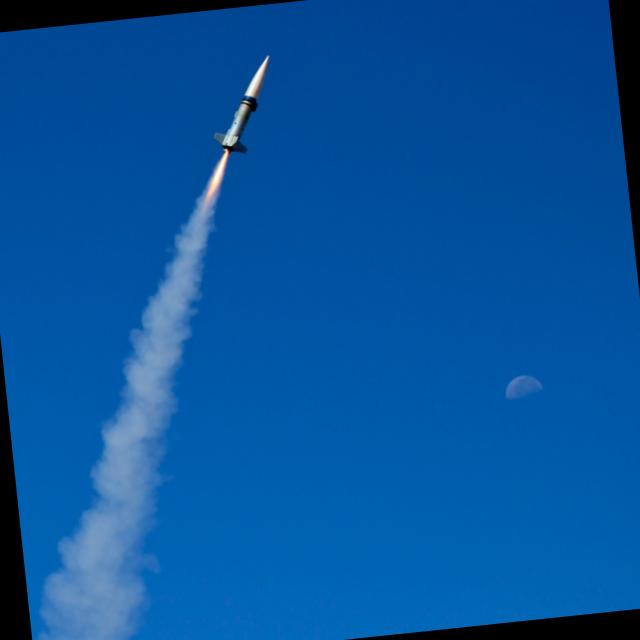rocket: (148, 51, 299, 284)
